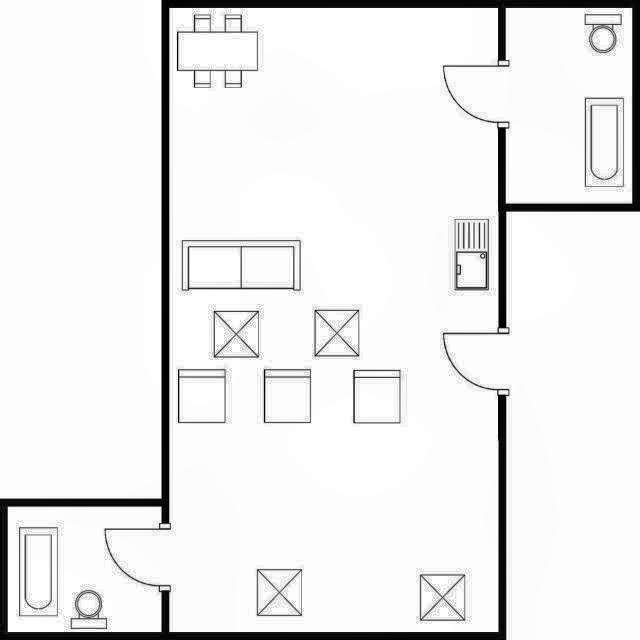room: (169, 8, 498, 632), (506, 8, 632, 204), (8, 506, 162, 632)
